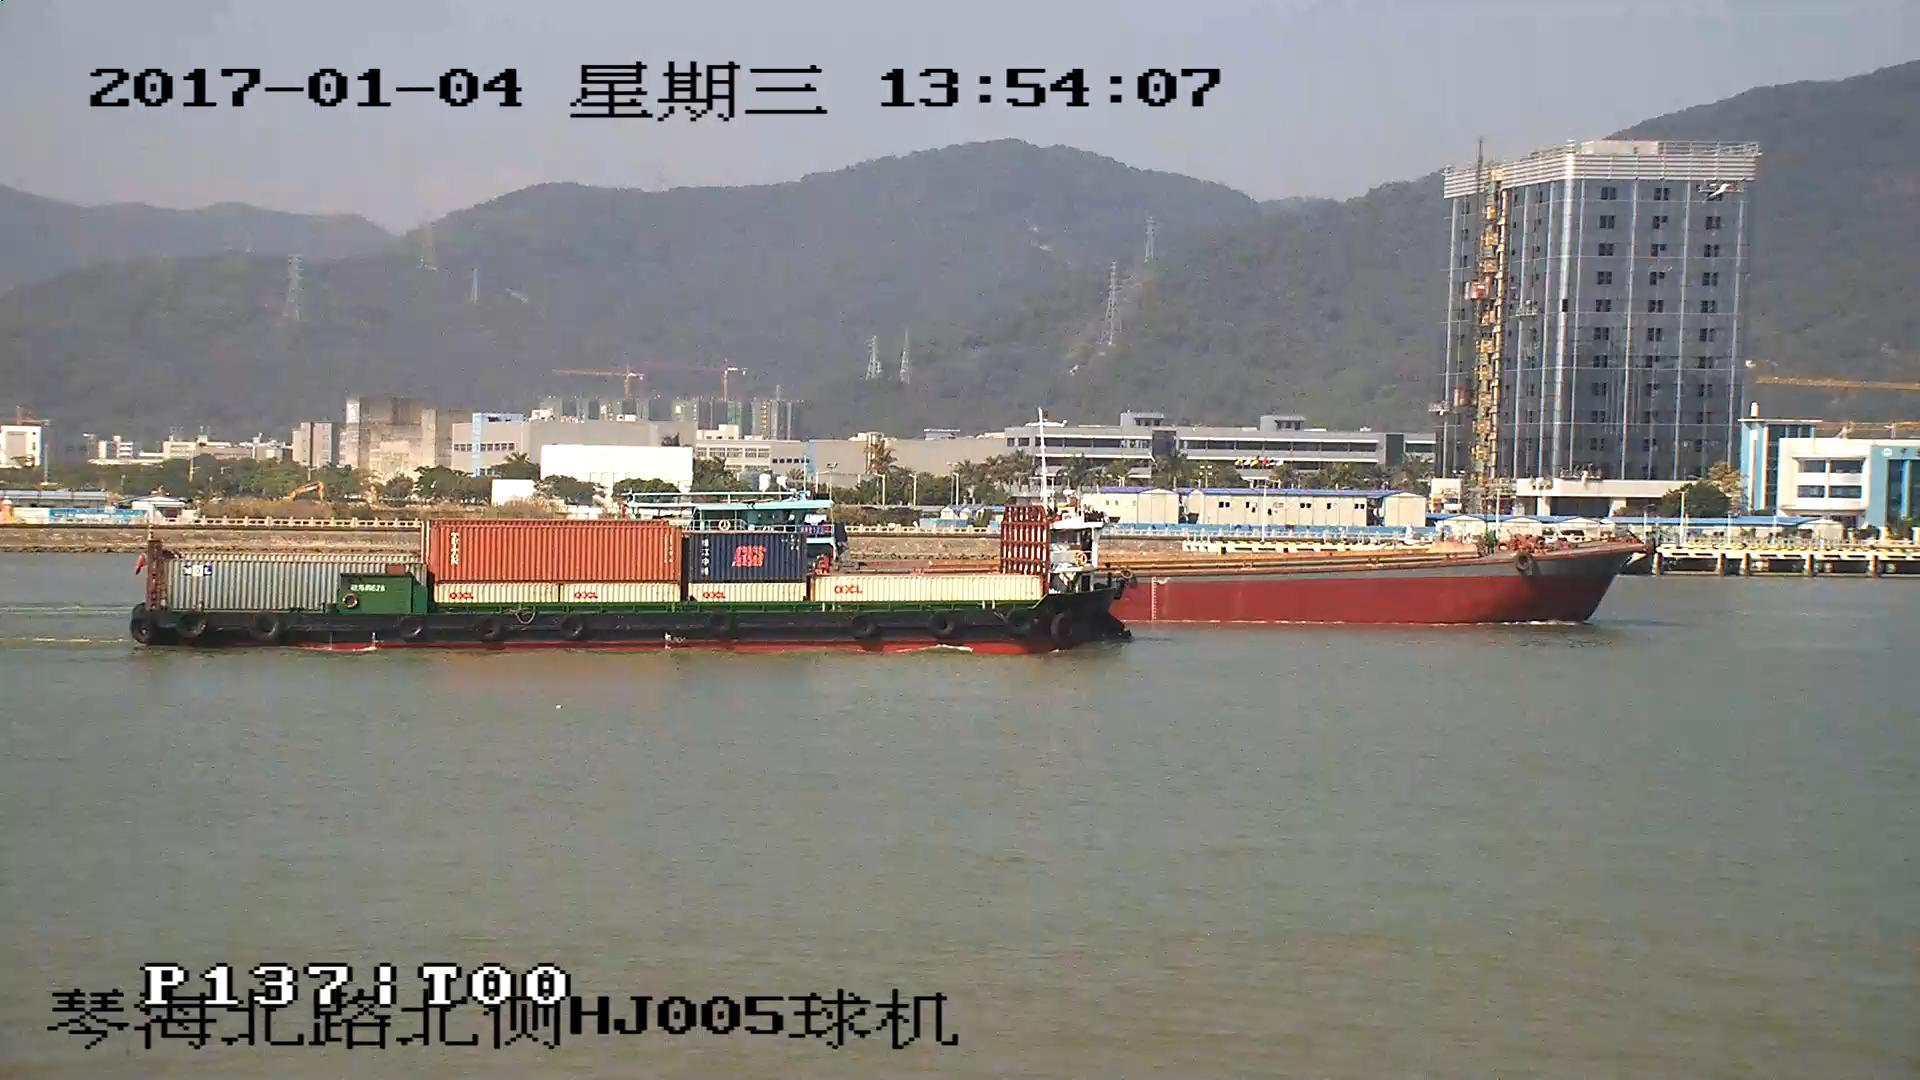Ship: (135, 506, 1131, 650), (1122, 543, 1650, 622)
